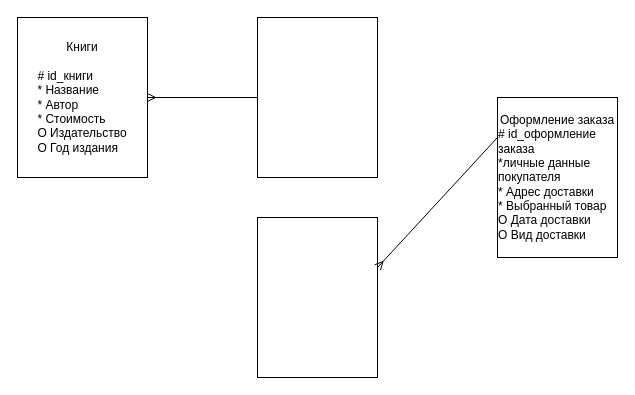
Some shapes in this 635 by 395 pixel diagram are drawn without their labels. The shapes that lost their labels are listed below. From the top down, each one's box as (x1, y1, x2, y2) in pixels, then its label:
(256, 16, 378, 178): Жанр книг # id_жанр книг * виды жанра O Тематика
(256, 216, 378, 378): Читатели # id_читатели *ФИО * Год рождения * Телефон O Адрес
